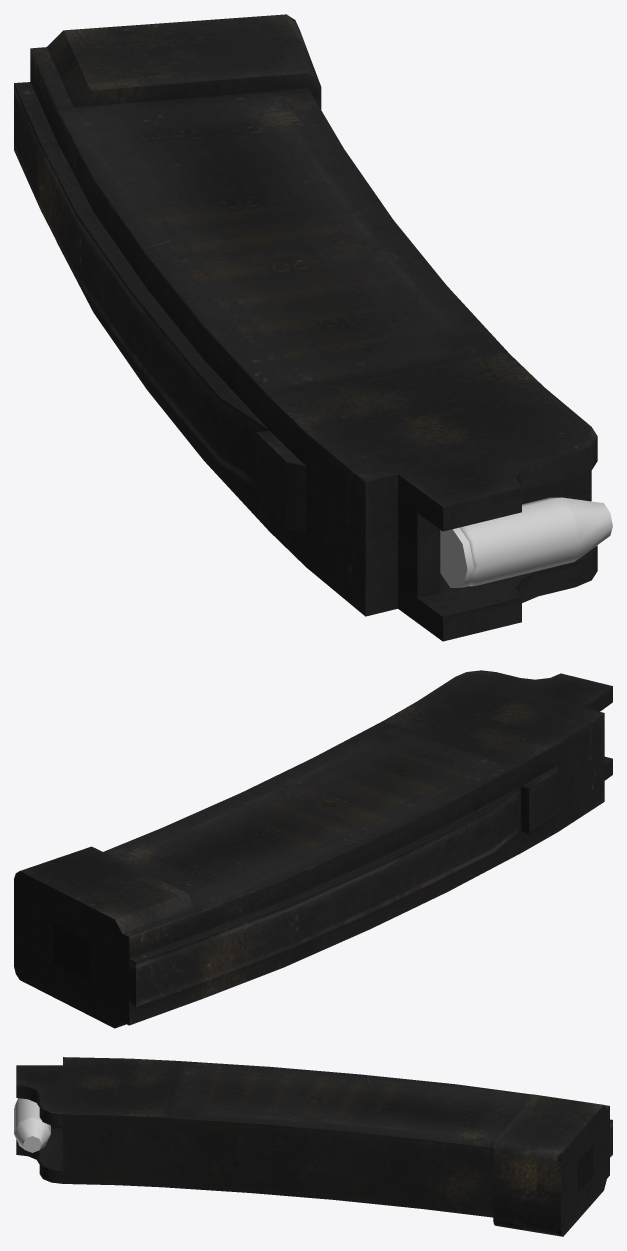
The model's file is t6_attach_mag_scorpion_view_LOD0.obj.
The picture shows the model from 3 angles, top to bottom: view 1: azimuth 30°, elevation 25°; view 2: azimuth 150°, elevation 25°; view 3: azimuth 270°, elevation 25°; orthographic projection. The views are drawn at different scales.
Parts seen in each view (by area): view 1: mtl_t6_wpn_smg_scorpion_camo3, mtl_t6_wpn_smg_scorpion_camo4, mtl_t6_attach_bullet; view 2: mtl_t6_wpn_smg_scorpion_camo3, mtl_t6_wpn_smg_scorpion_camo4; view 3: mtl_t6_wpn_smg_scorpion_camo3, mtl_t6_wpn_smg_scorpion_camo4, mtl_t6_attach_bullet.
Part boxes in pixels (box(x1,y1,x2,y2)): mtl_t6_wpn_smg_scorpion_camo3: box(57, 88, 597, 641); mtl_t6_wpn_smg_scorpion_camo4: box(14, 14, 321, 533); mtl_t6_attach_bullet: box(440, 497, 612, 587); mtl_t6_wpn_smg_scorpion_camo3: box(103, 670, 612, 998); mtl_t6_wpn_smg_scorpion_camo4: box(14, 766, 558, 1028); mtl_t6_wpn_smg_scorpion_camo3: box(16, 1057, 532, 1217); mtl_t6_wpn_smg_scorpion_camo4: box(493, 1094, 612, 1236); mtl_t6_attach_bullet: box(14, 1098, 50, 1152).
Size of the model in its own units: 8.94 by 3.37 by 21.34.
